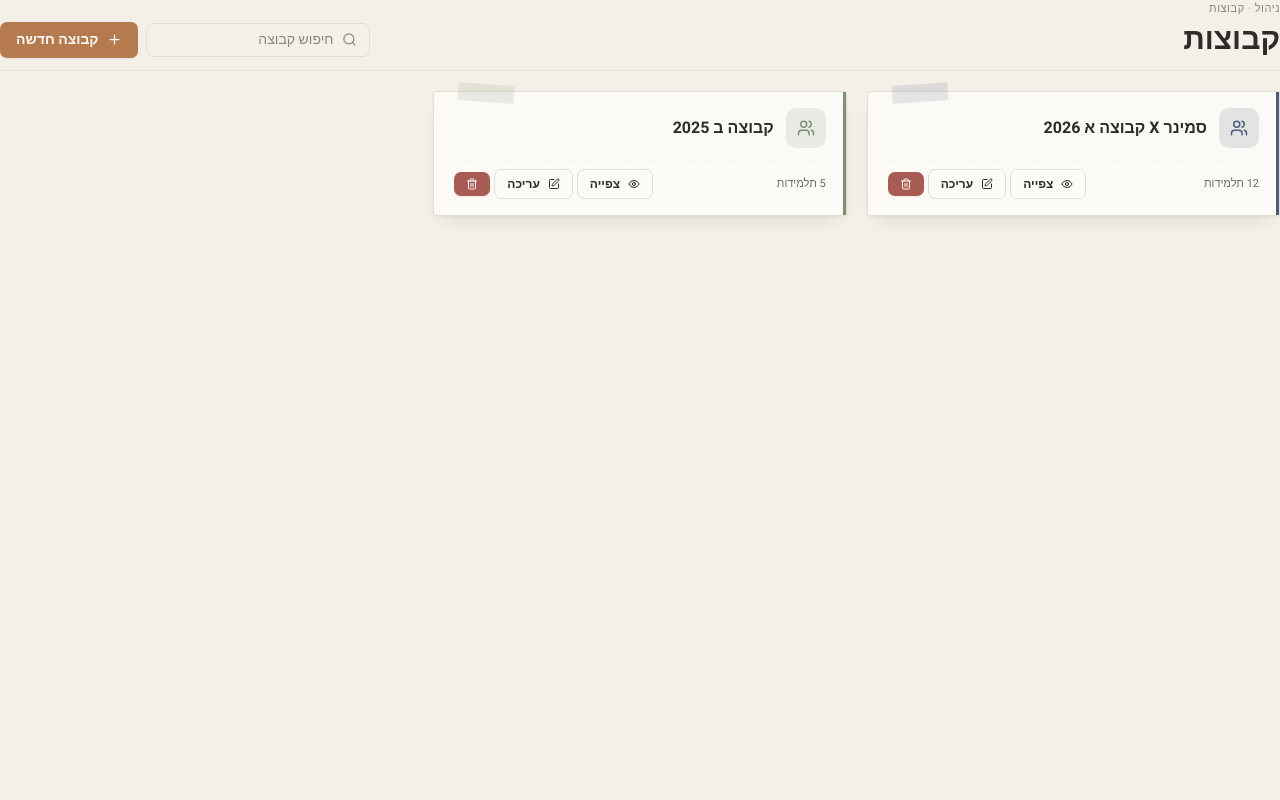
Test case: GroupsPage › editing and deleting straight from the list › does not mention courses for a group that has none
The image size is (1280, 800).
Expected: the text "קבוצה ב 2025" is shown, [673,116,774,140]
Click the button named "מחיקת הקבוצה קבוצה ב 2025": coordinates (472, 184) [454,172,490,196]
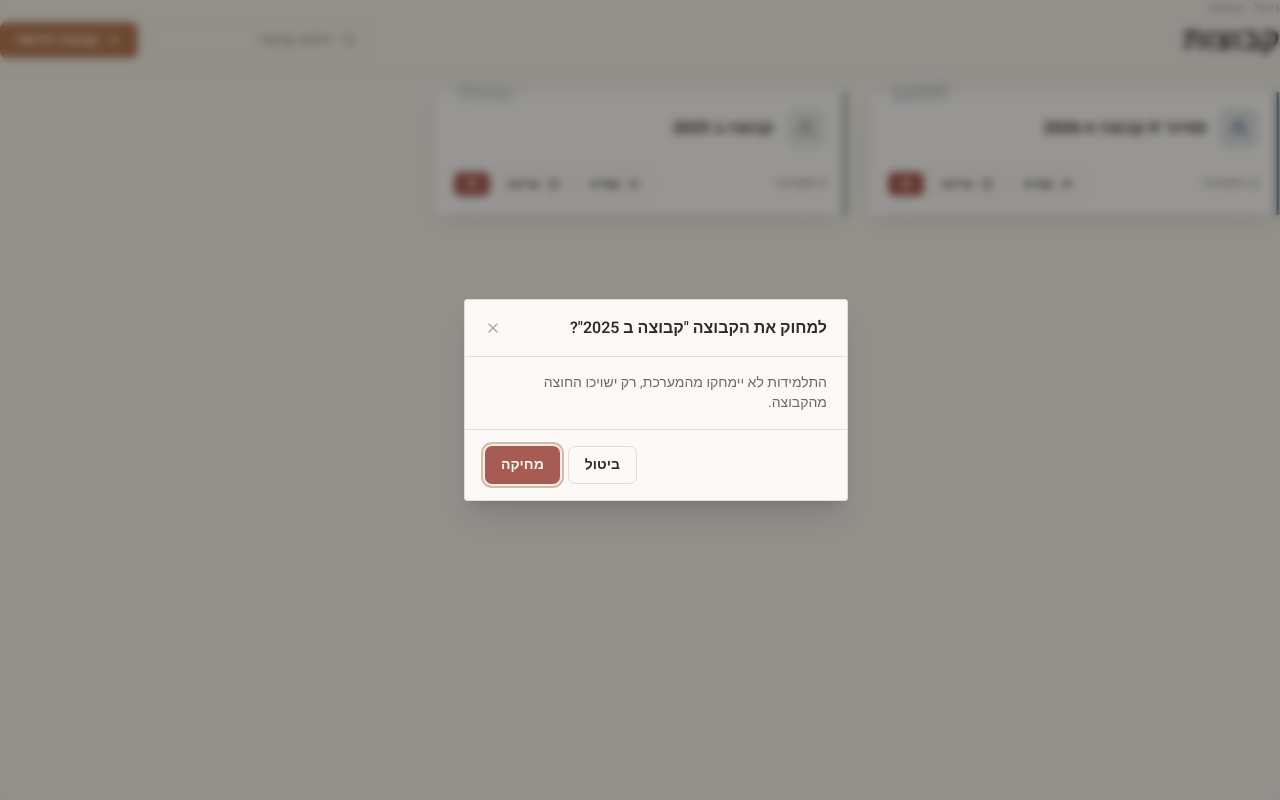
Expected: the heading "למחוק את הקבוצה \"קבוצה ב 2025\"?" is shown, [570,316,827,340]
